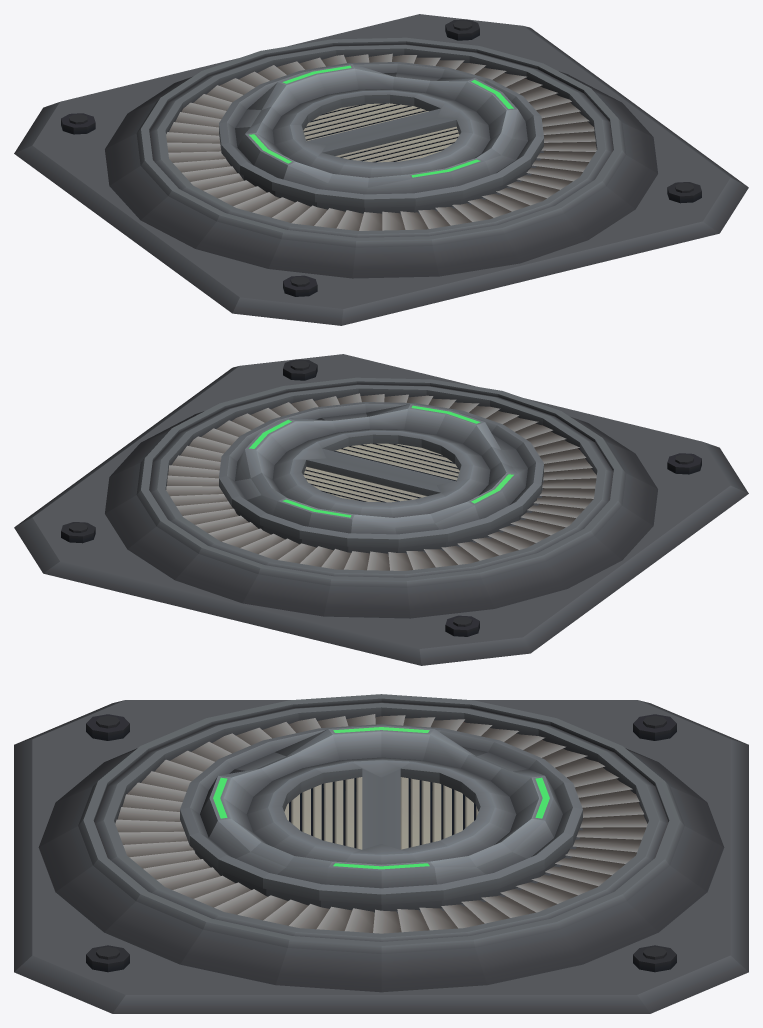
File: SM_Fan.fbx
3 renders of one model, top to bottom at view 1: azimuth 30°, elevation 25°; view 2: azimuth 150°, elevation 25°; view 3: azimuth 270°, elevation 25°, orthographic. The views are drawn at different scales.
Parts seen in each view (by area): view 1: sprzęt, podstawka, wiatraczki, sprzęt.001, śruby.002; view 2: sprzęt, podstawka, wiatraczki, sprzęt.001, śruby.002; view 3: sprzęt, podstawka, wiatraczki, sprzęt.001, śruby.002.
Part boxes in pixels (bbox=[...]): sprzęt: bbox=[105, 37, 657, 278]; podstawka: bbox=[14, 14, 748, 325]; wiatraczki: bbox=[166, 53, 596, 230]; sprzęt.001: bbox=[303, 103, 459, 162]; śruby.002: bbox=[61, 19, 701, 296]; sprzęt: bbox=[105, 377, 657, 618]; podstawka: bbox=[14, 354, 748, 665]; wiatraczki: bbox=[166, 393, 596, 570]; sprzęt.001: bbox=[303, 443, 459, 502]; śruby.002: bbox=[61, 359, 701, 636]; sprzęt: bbox=[38, 694, 724, 992]; podstawka: bbox=[14, 700, 748, 1013]; wiatraczki: bbox=[115, 714, 647, 933]; sprzęt.001: bbox=[284, 777, 478, 849]; śruby.002: bbox=[86, 714, 676, 972].
Bounding box in the file's own units: 126 × 11.45 × 126.
